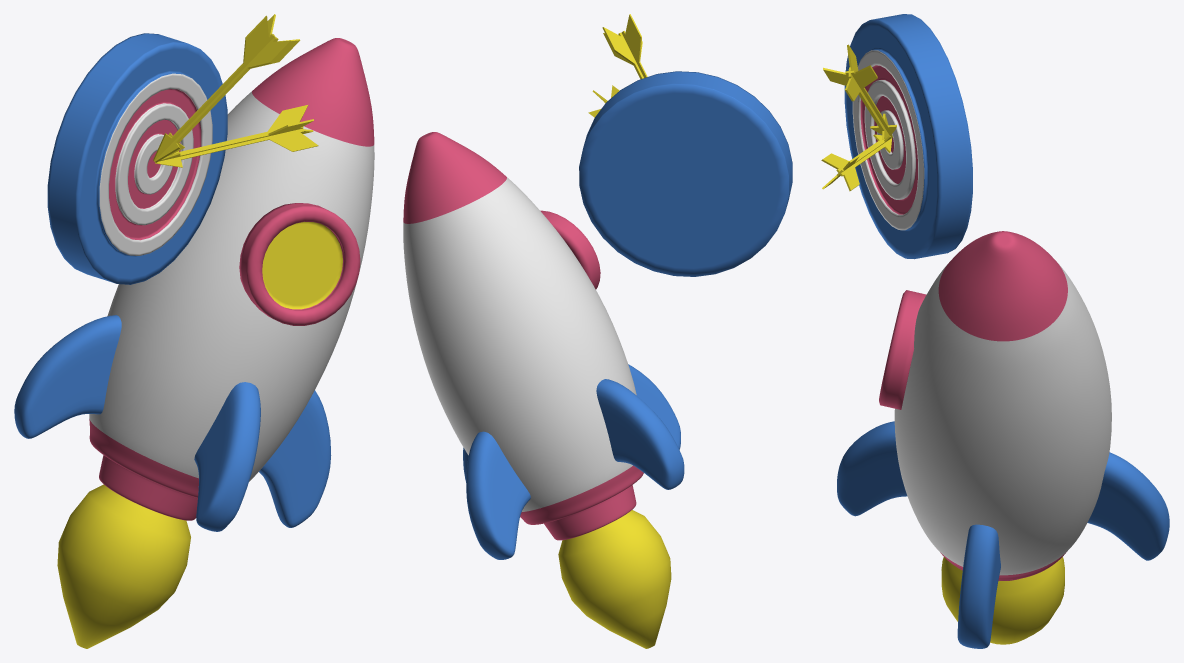
The model's file is mission-3d-animated-icon-831869041242.glb.
The picture shows the model from 3 angles, left to right: view 1: azimuth 30°, elevation 25°; view 2: azimuth 150°, elevation 25°; view 3: azimuth 270°, elevation 25°; orthographic projection. The views are drawn at different scales.
Visible parts, largest first — view 1: Cylinder.023, Cylinder.022, Plane.064, Cylinder.024, Circle.003, Cube.086, Cube.001; view 2: Cylinder.023, Cylinder.022, Plane.064, Cylinder.024, Circle.003, Cube.086; view 3: Cylinder.023, Cylinder.022, Plane.064, Cylinder.024, Circle.003, Cube.086, Cube.001.
Part boxes in pixels (left/top/right/bottom): Cylinder.023: left=89, top=38, right=374, bottom=520; Cylinder.022: left=47, top=33, right=227, bottom=284; Plane.064: left=14, top=315, right=331, bottom=531; Cylinder.024: left=57, top=484, right=190, bottom=648; Circle.003: left=239, top=203, right=360, bottom=325; Cube.086: left=153, top=14, right=300, bottom=162; Cube.001: left=155, top=105, right=318, bottom=167; Cylinder.023: left=403, top=132, right=643, bottom=540; Cylinder.022: left=579, top=71, right=792, bottom=276; Plane.064: left=463, top=364, right=684, bottom=559; Cylinder.024: left=558, top=510, right=671, bottom=648; Circle.003: left=540, top=210, right=600, bottom=289; Cube.086: left=602, top=14, right=647, bottom=79; Cylinder.023: left=894, top=231, right=1111, bottom=580; Cylinder.022: left=844, top=14, right=972, bottom=259; Plane.064: left=837, top=421, right=1169, bottom=648; Cylinder.024: left=941, top=557, right=1064, bottom=644; Circle.003: left=879, top=290, right=926, bottom=409; Cube.086: left=823, top=44, right=896, bottom=139; Cube.001: left=821, top=134, right=891, bottom=191.
Size of the model in its own units: 3.35 by 5.59 by 2.73.
